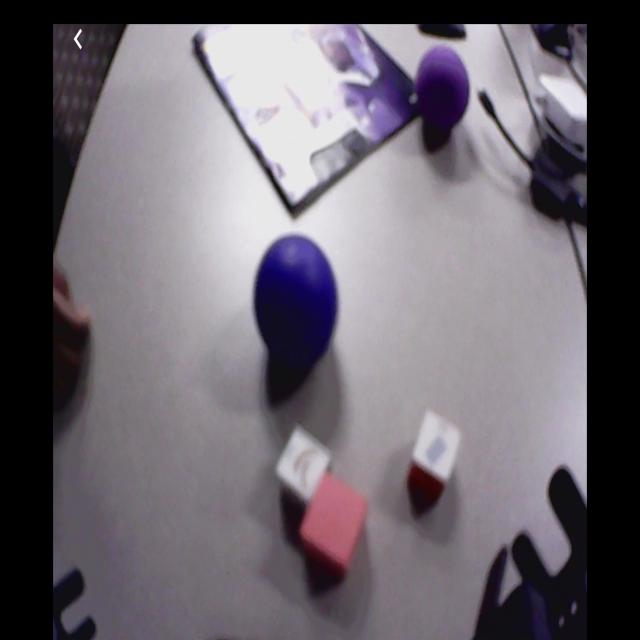ball: (254, 235, 337, 354), (416, 49, 471, 127)
